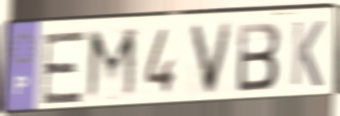4: (143, 26, 179, 98)
B: (235, 20, 283, 95)
E: (39, 28, 89, 107)
K: (289, 19, 327, 90)
M: (83, 25, 140, 105)
V: (187, 20, 236, 99)
